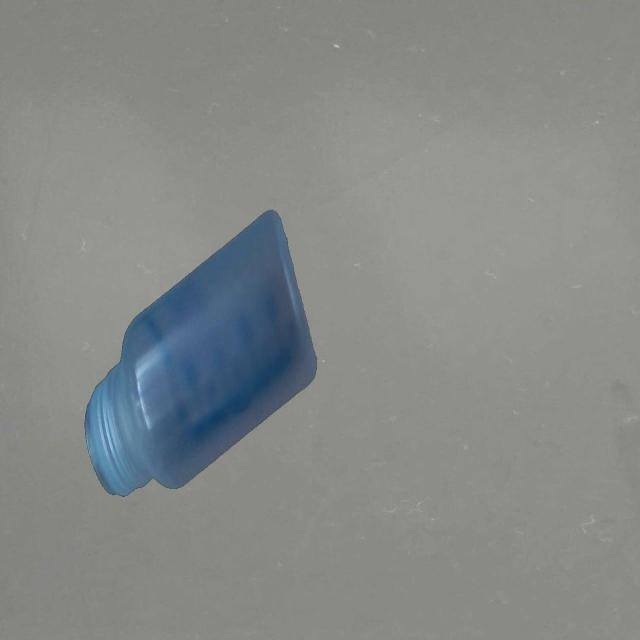bottle: (84, 206, 317, 506)
